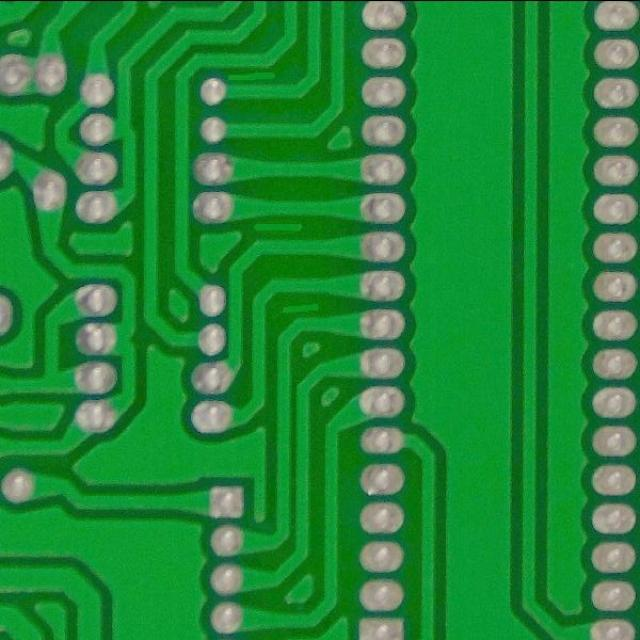Spurious_Cooper: (248, 218, 310, 236), (276, 296, 326, 318), (224, 68, 281, 83)
